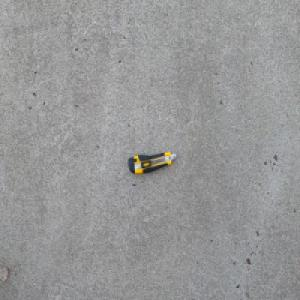Cutter: (127, 150, 176, 174)
